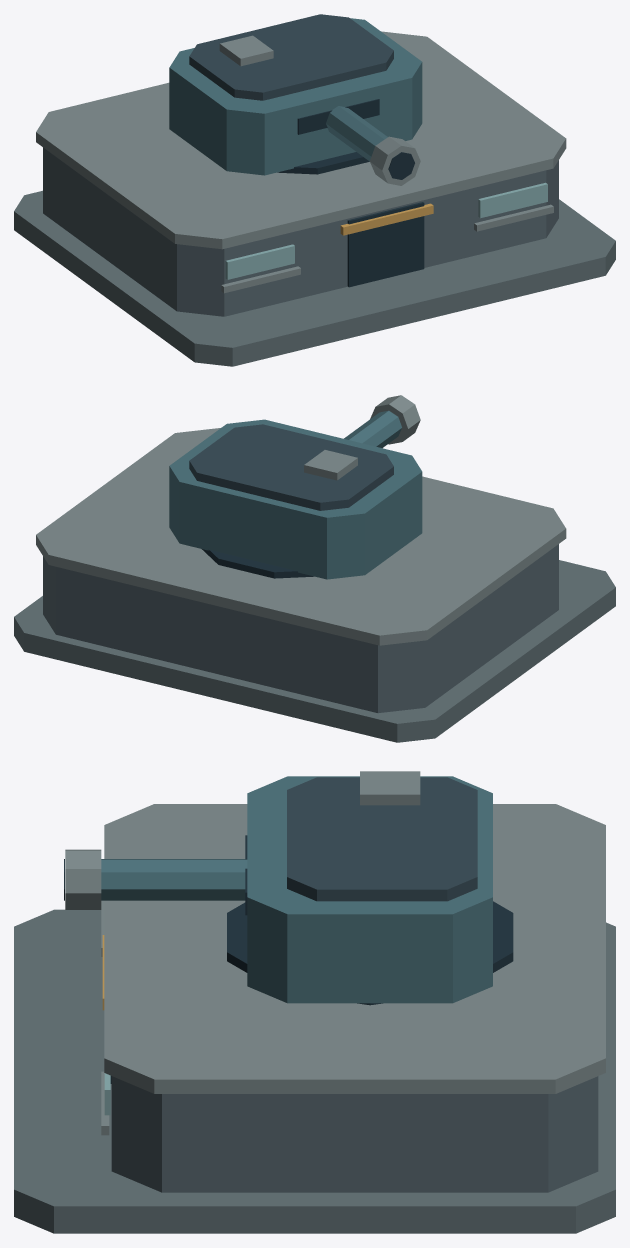
The model's file is submarine-coastal-gun.glb.
The picture shows the model from 3 angles, top to bottom: view 1: azimuth 30°, elevation 25°; view 2: azimuth 150°, elevation 25°; view 3: azimuth 270°, elevation 25°; orthographic projection. The views are drawn at different scales.
Parts seen in each view (by area): view 1: intact_structure, turret, barrel; view 2: intact_structure, turret, barrel; view 3: intact_structure, turret, barrel.
Boxes of the visible parts, bbox=[...] form: intact_structure: bbox=[14, 31, 615, 366]; turret: bbox=[169, 14, 422, 175]; barrel: bbox=[326, 106, 420, 185]; intact_structure: bbox=[14, 428, 615, 742]; turret: bbox=[169, 419, 422, 579]; barrel: bbox=[344, 395, 420, 448]; intact_structure: bbox=[14, 804, 615, 1233]; turret: bbox=[245, 771, 492, 1003]; barrel: bbox=[64, 849, 247, 909].
Bounding box in the file's own units: 7 × 3 × 6.
